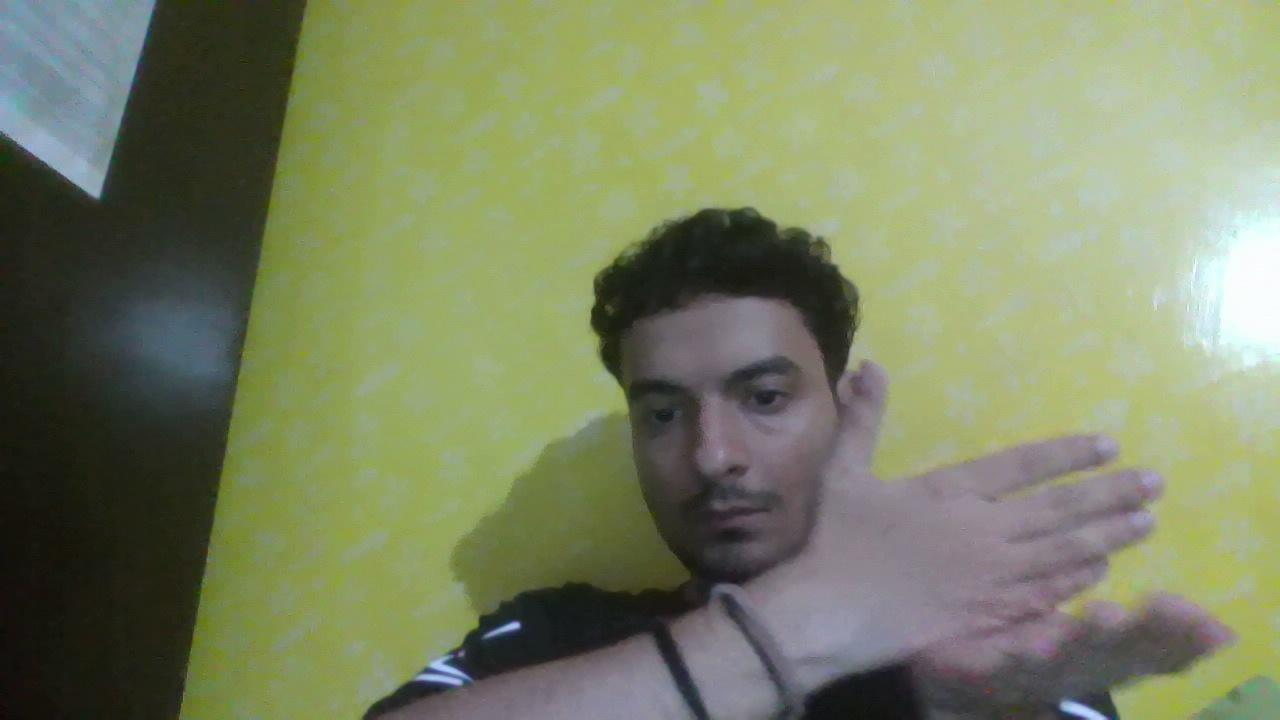stop: (756, 336, 1257, 709)
